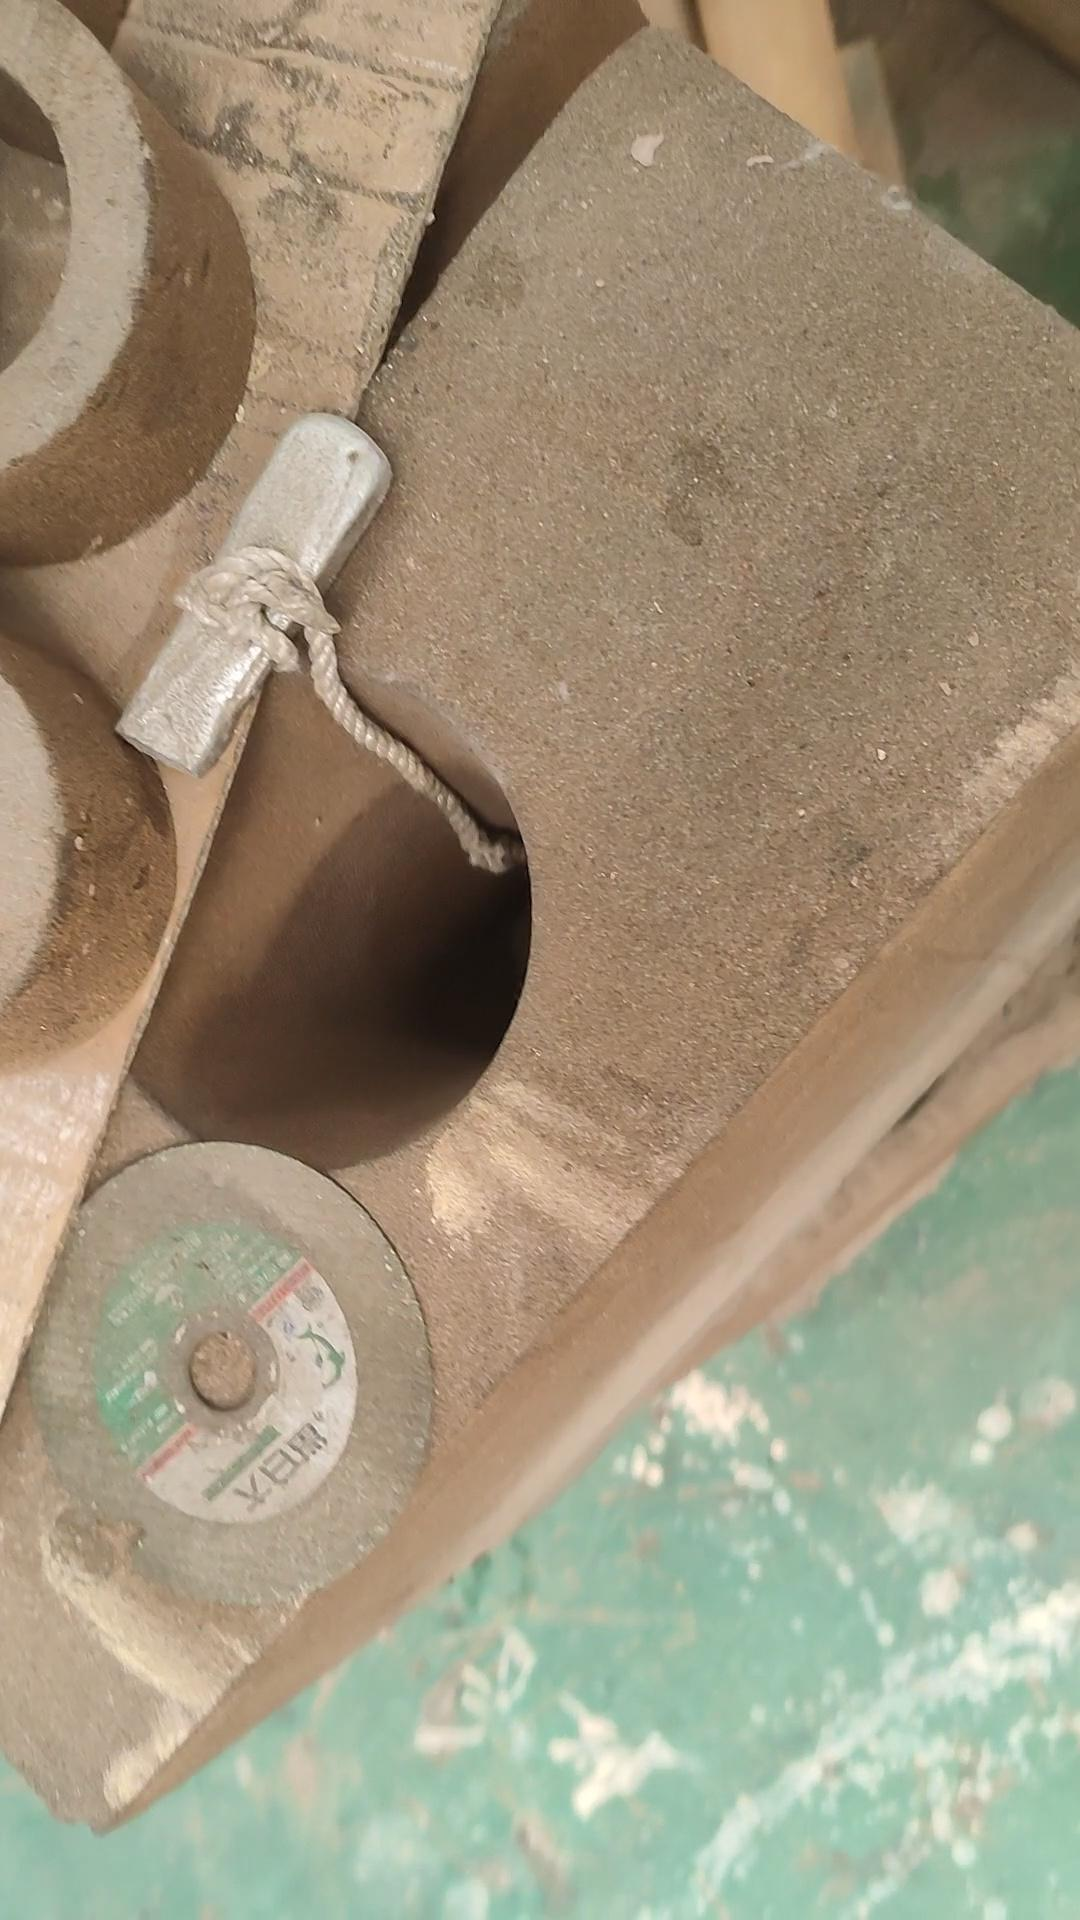pouring hole: (113, 662, 535, 1178)
